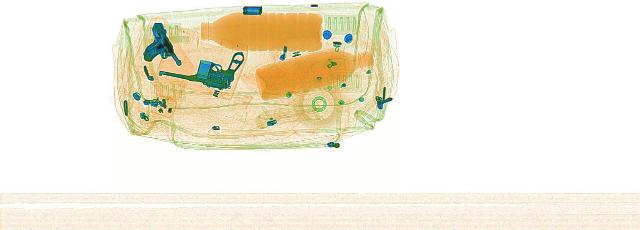Gun: (150, 47, 254, 86), (125, 21, 183, 66)
